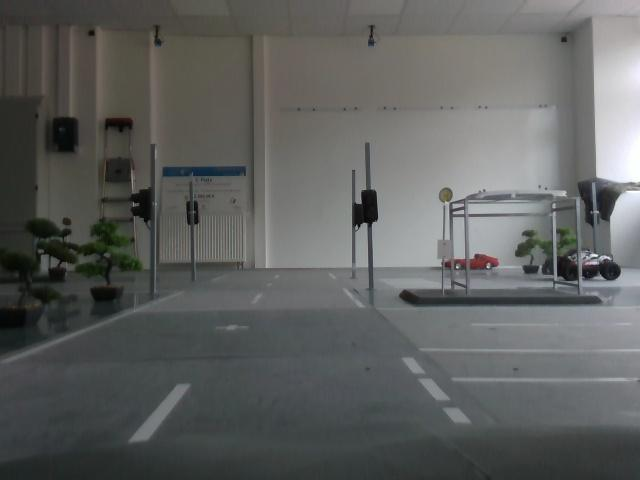car: (435, 247, 506, 277)
potted plant: (89, 217, 136, 302), (1, 234, 37, 339), (43, 220, 84, 295), (520, 226, 547, 276), (557, 232, 577, 279)
traffic light: (359, 189, 382, 229), (138, 185, 155, 223)
